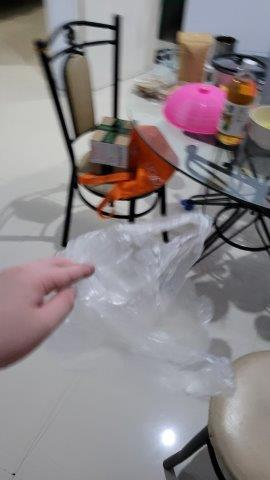plastik: (45, 213, 238, 399)
